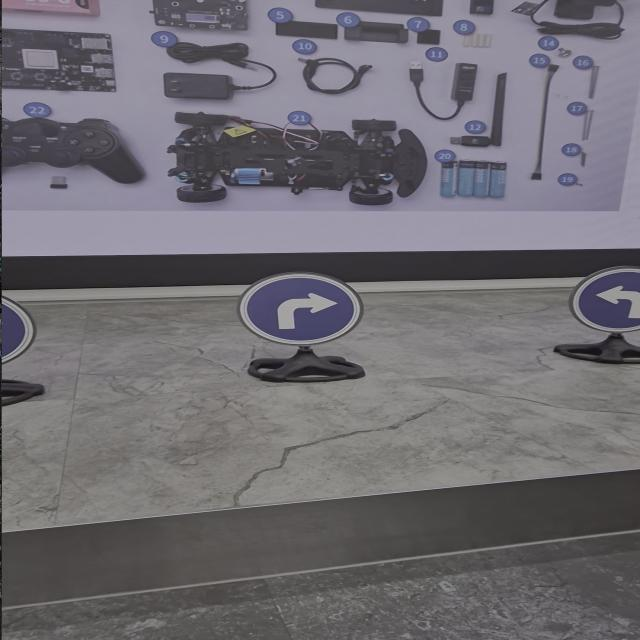right_dierection: (226, 259, 396, 352)
